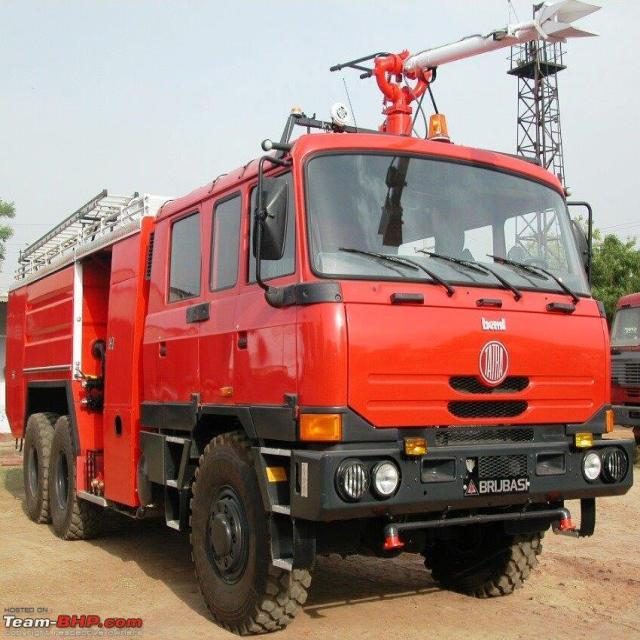emergency: (6, 68, 632, 634)
